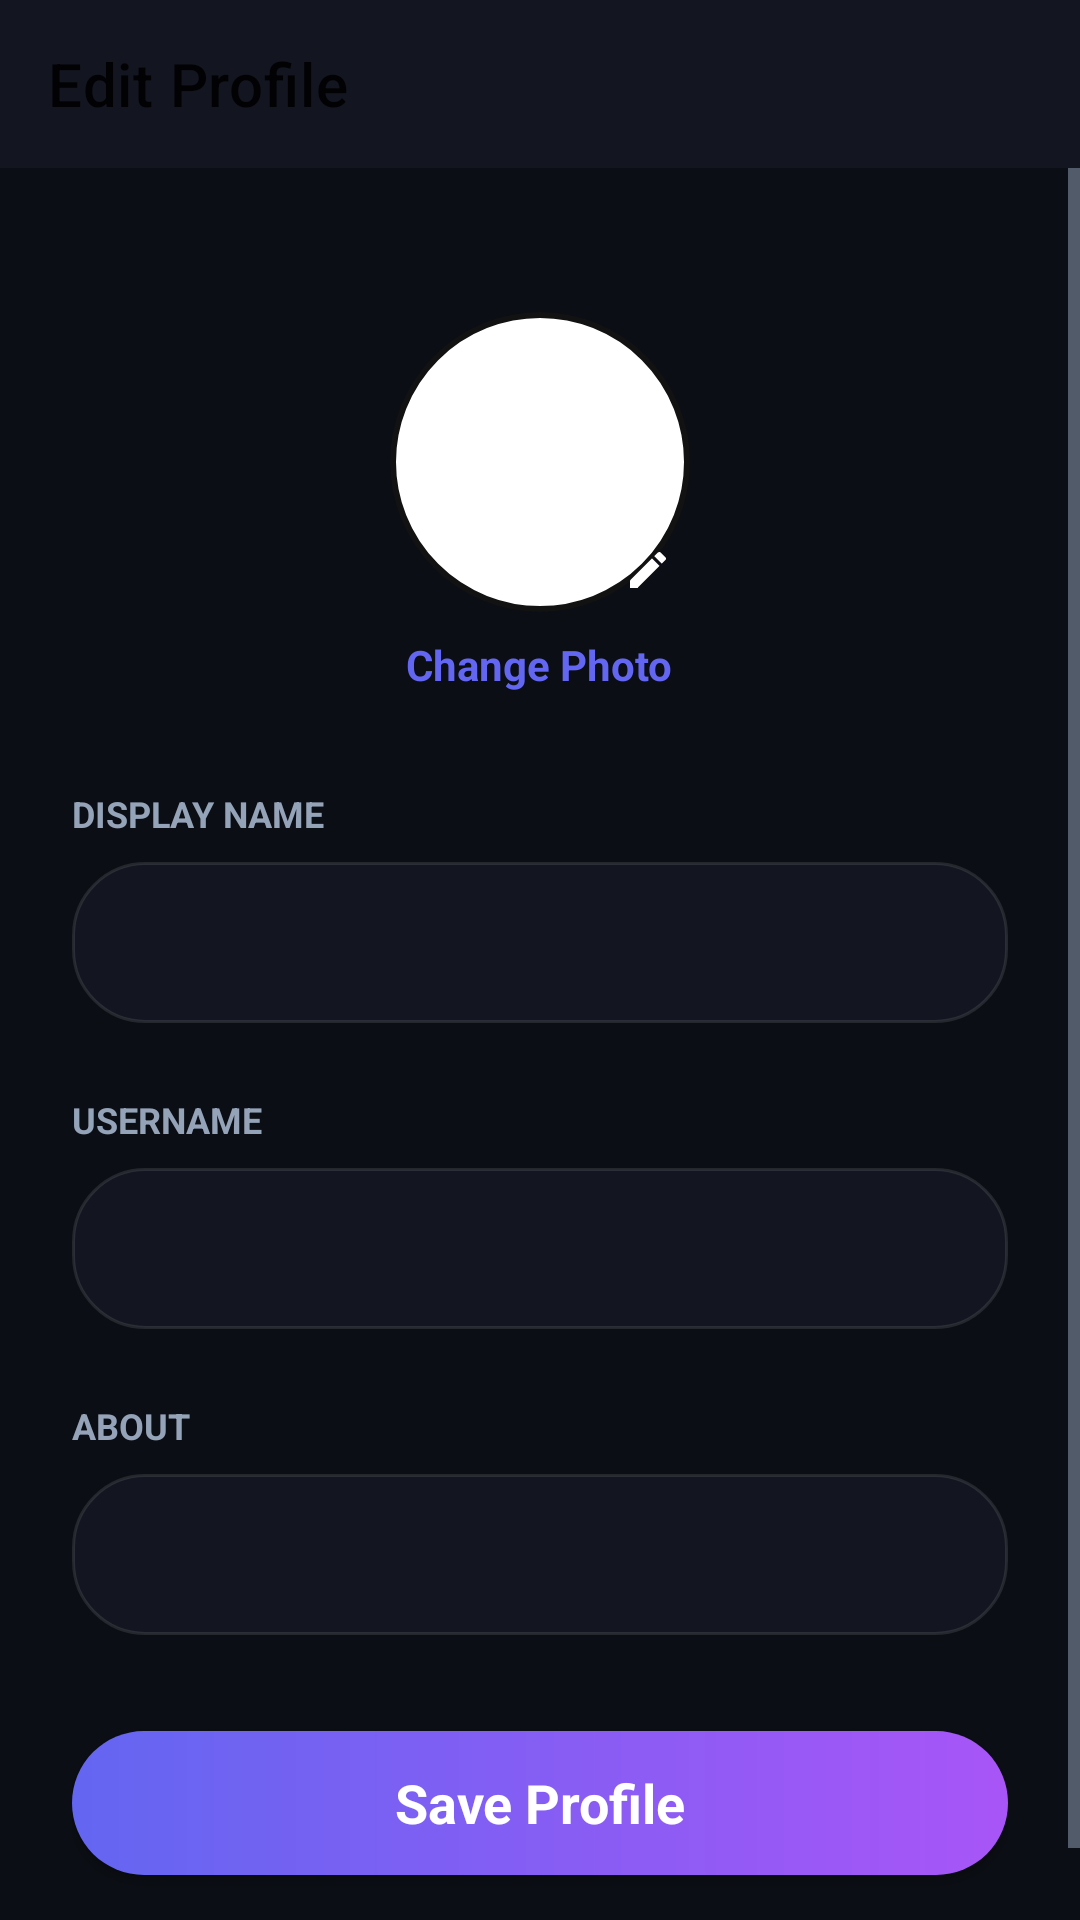

Icons on this 1080w x 1920h Android screen, each with its box as rect(x1, y1, x2, y2):
edit premium: rect(606, 528, 668, 590)
